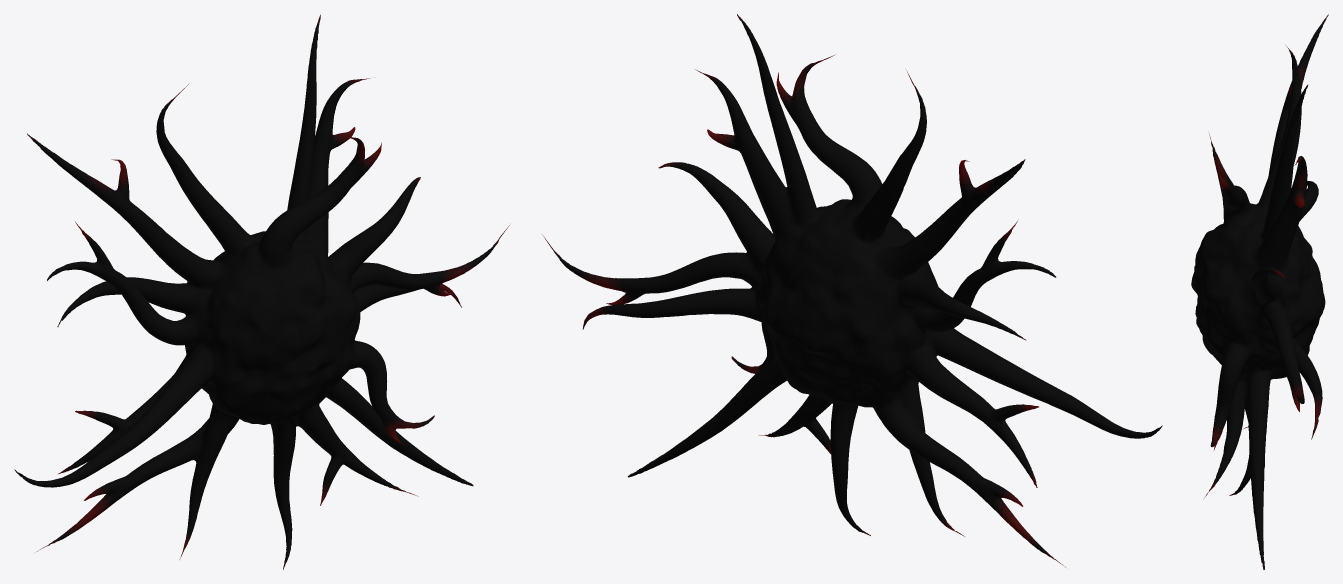
Rendered from symbiote-web.glb.
The picture shows the model from 3 angles, left to right: view 1: azimuth 30°, elevation 25°; view 2: azimuth 150°, elevation 25°; view 3: azimuth 270°, elevation 25°; orthographic projection. The views are drawn at different scales.
Visible parts, largest first — view 1: Symbiote; view 2: Symbiote; view 3: Symbiote.
Part boxes in pixels (x1,y1,x2,y2): Symbiote: [14, 14, 509, 569]; Symbiote: [542, 14, 1162, 567]; Symbiote: [1191, 14, 1328, 569].
Bounding box in the file's own units: 8.36 × 7.44 × 2.07.
